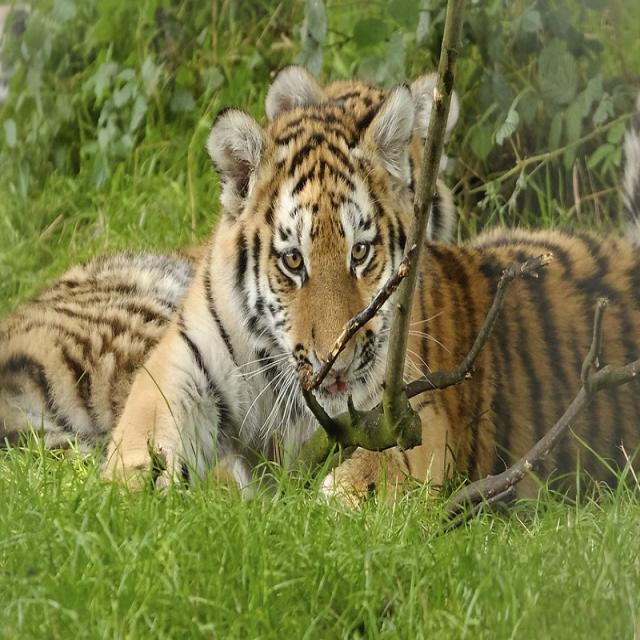Tiger: (117, 91, 639, 500), (0, 62, 457, 459)
